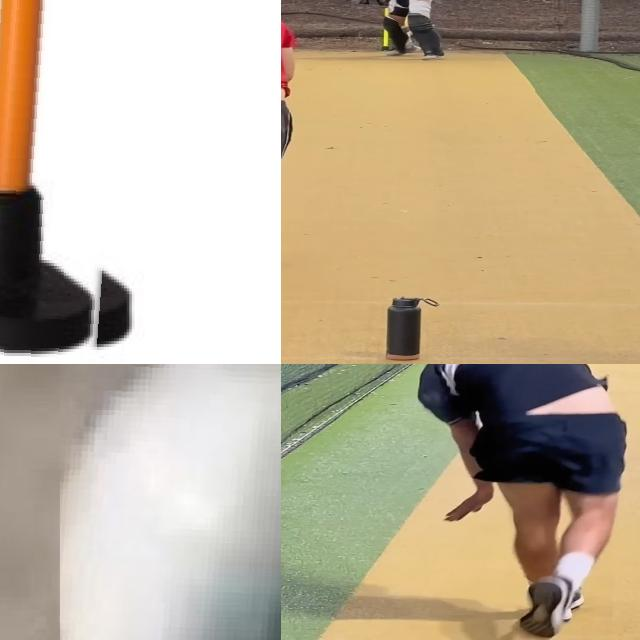Cricket ball: (60, 364, 281, 640)
Stumps: (0, 0, 137, 357)
